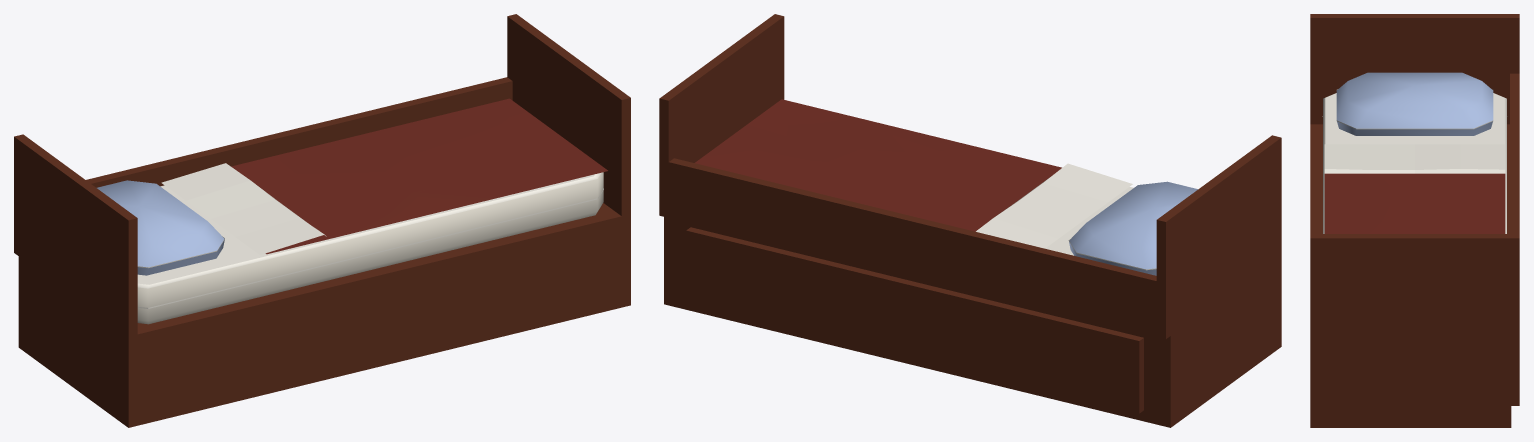
File: parametric-berth-3rd.glb
3 views of the same model, side by side, from view 1: azimuth 30°, elevation 25°; view 2: azimuth 150°, elevation 25°; view 3: azimuth 270°, elevation 25° (orthographic). The views are drawn at different scales.
Visible parts, largest first — view 1: parametric-berth-3rd; view 2: parametric-berth-3rd; view 3: parametric-berth-3rd.
Boxes of the visible parts, x1,y1,x2,y2 form: parametric-berth-3rd: [14, 14, 630, 427]; parametric-berth-3rd: [659, 14, 1281, 427]; parametric-berth-3rd: [1310, 14, 1519, 427].
Bounding box in the file's own units: 1.9 × 0.75 × 0.75.
